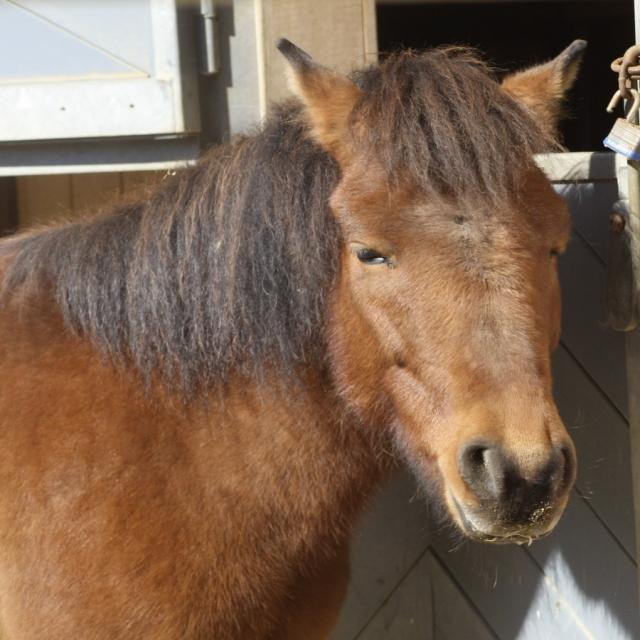Horse: (0, 36, 589, 639)
